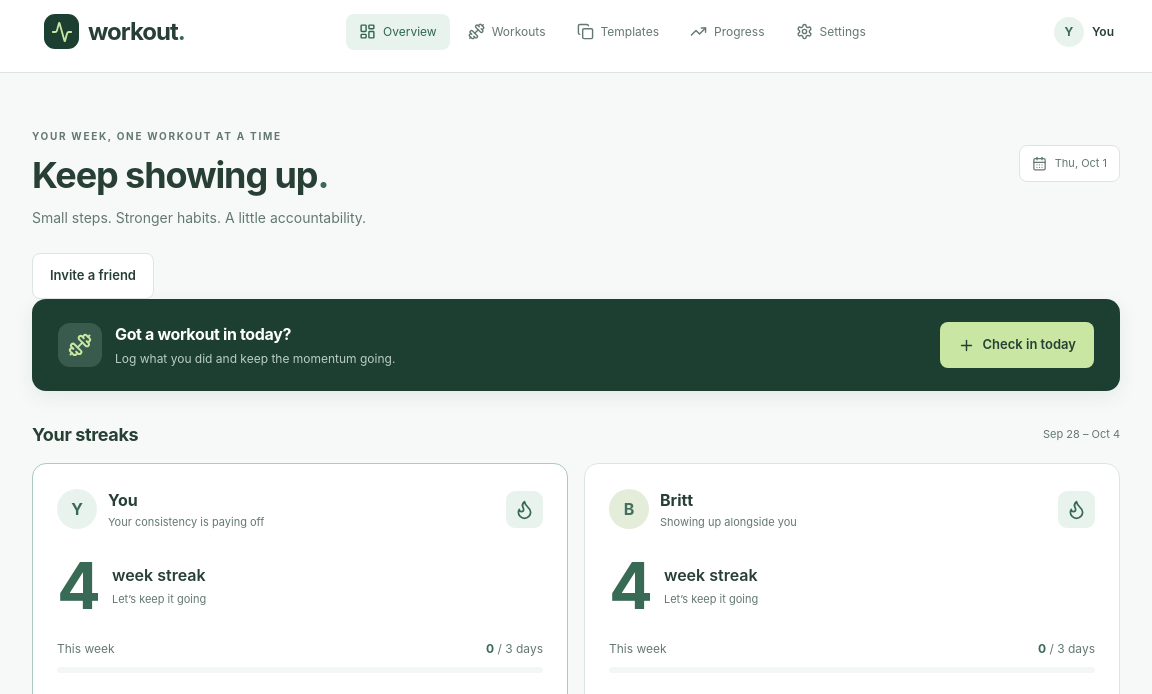
Test case: just check in records today without requiring workout details
Step 1. Click the button "Check in today" → {"x": 1017, "y": 345}, box [940, 322, 1094, 368]
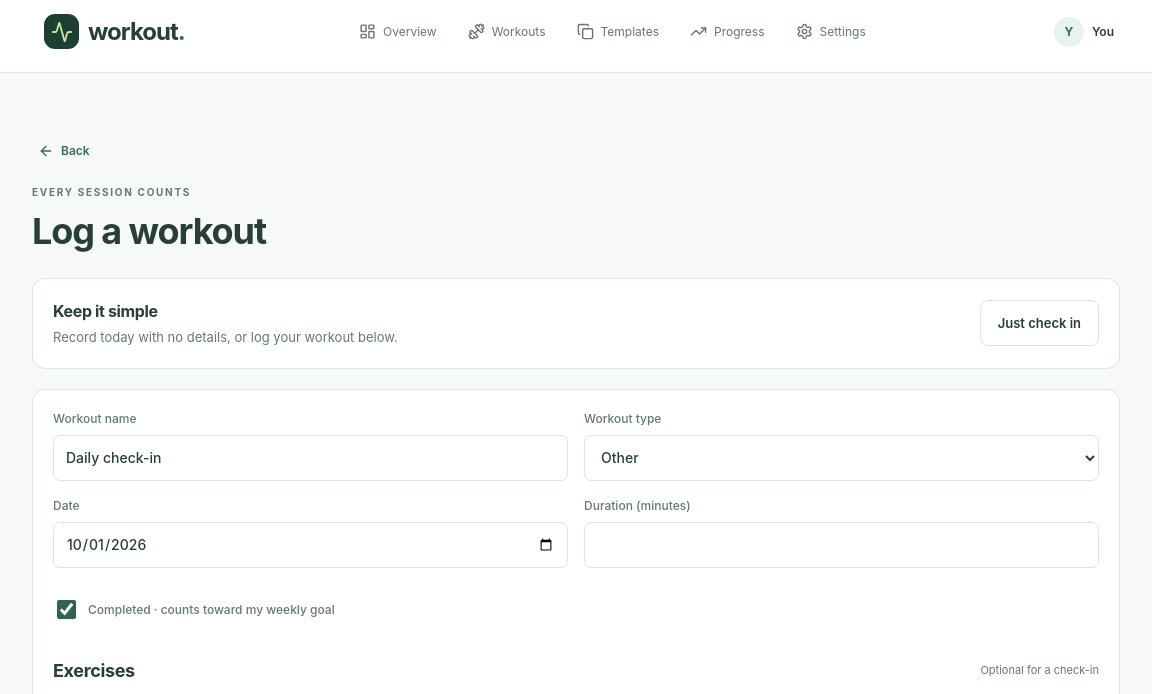
Step 2. Clear the field labelled "Workout name" → {"x": 310, "y": 458}, box [53, 435, 568, 481]
(page scrolled)
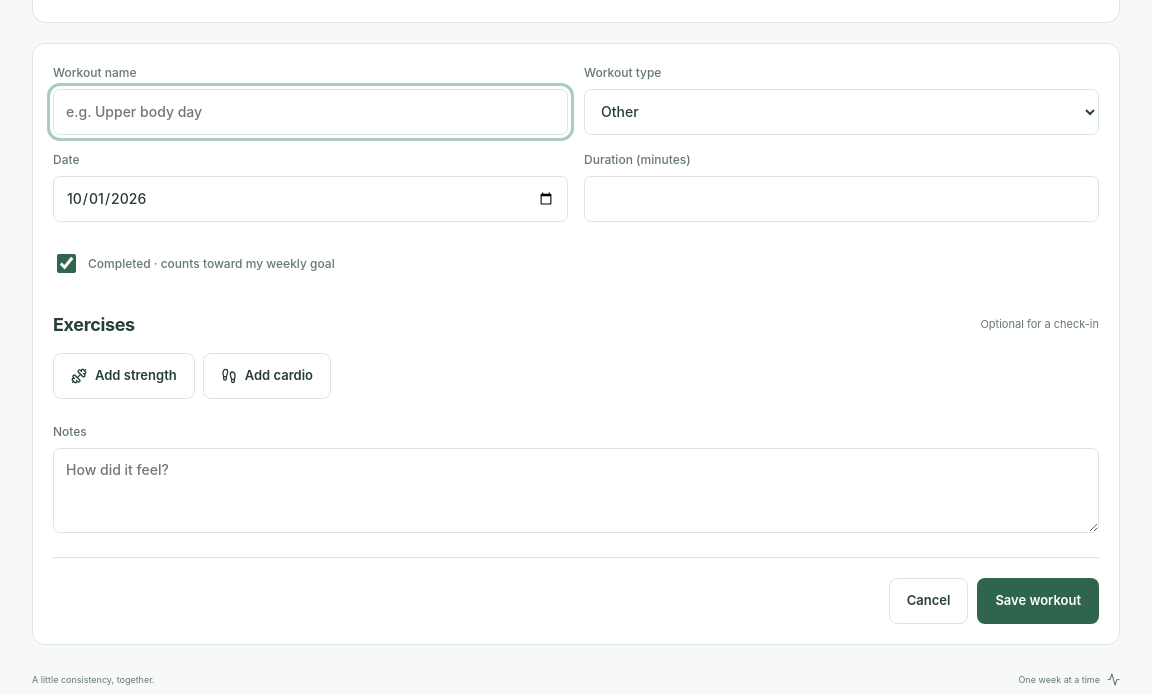
Step 3. Click the button "Add strength" → {"x": 124, "y": 376}, box [53, 353, 195, 399]
(page scrolled)
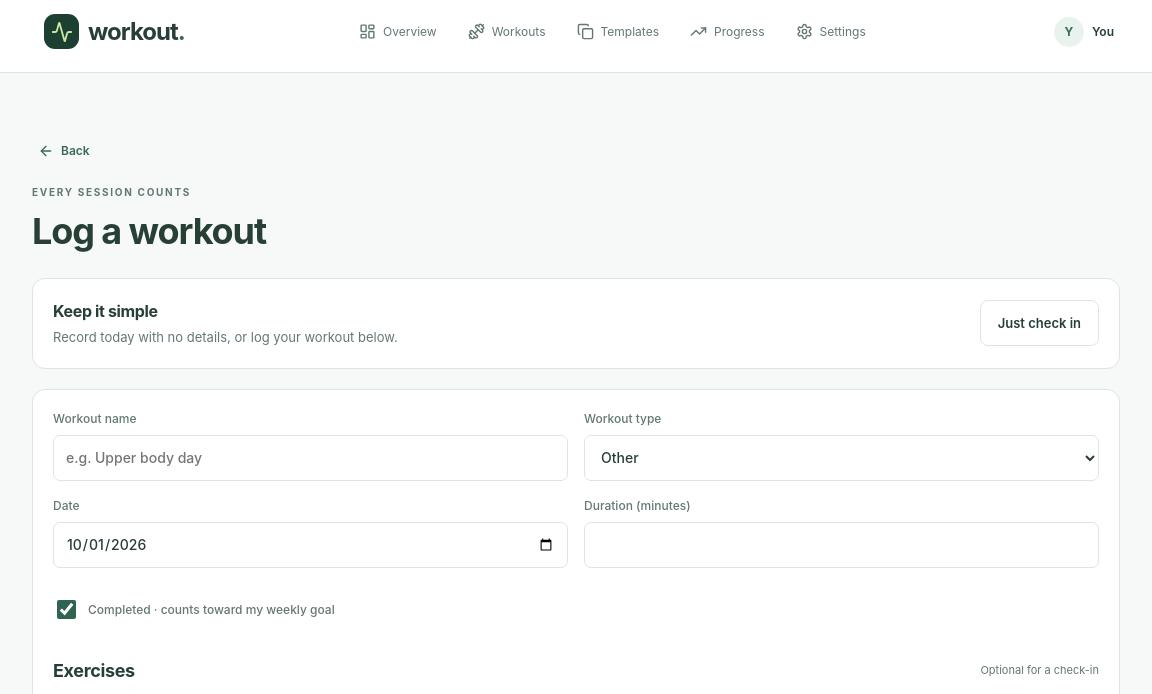
Step 4. Click the button "Just check in" → {"x": 1039, "y": 323}, box [980, 300, 1099, 346]
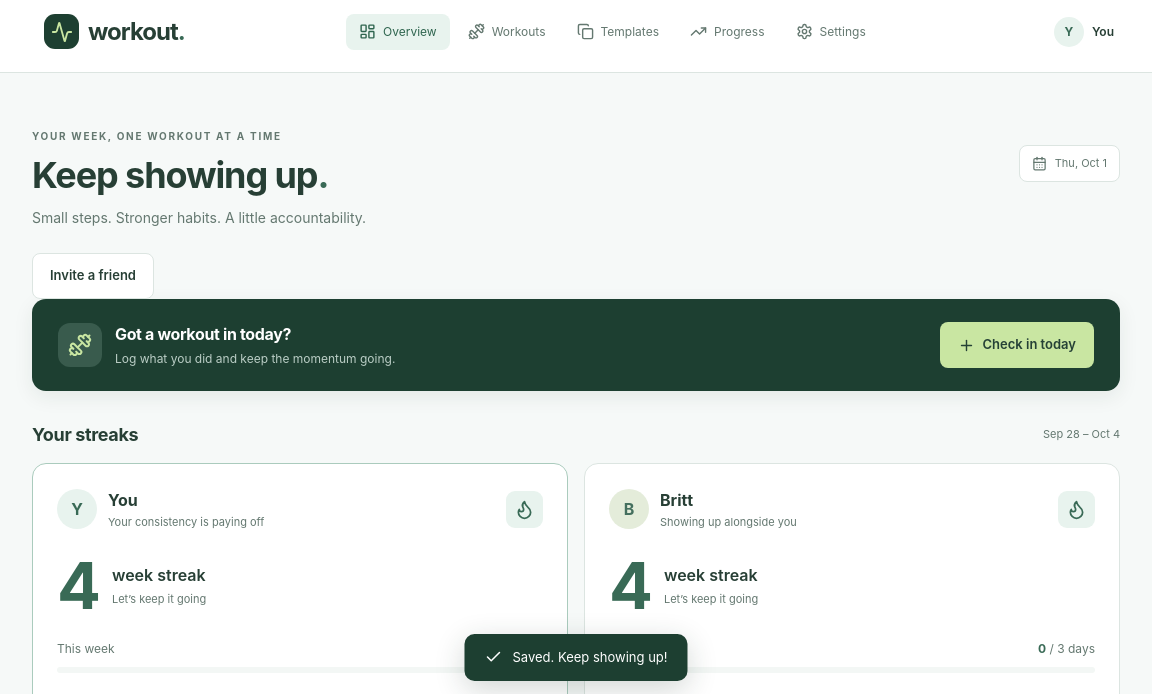
Now the message reads "Saved. Keep showing up!", box [512, 648, 668, 664]
